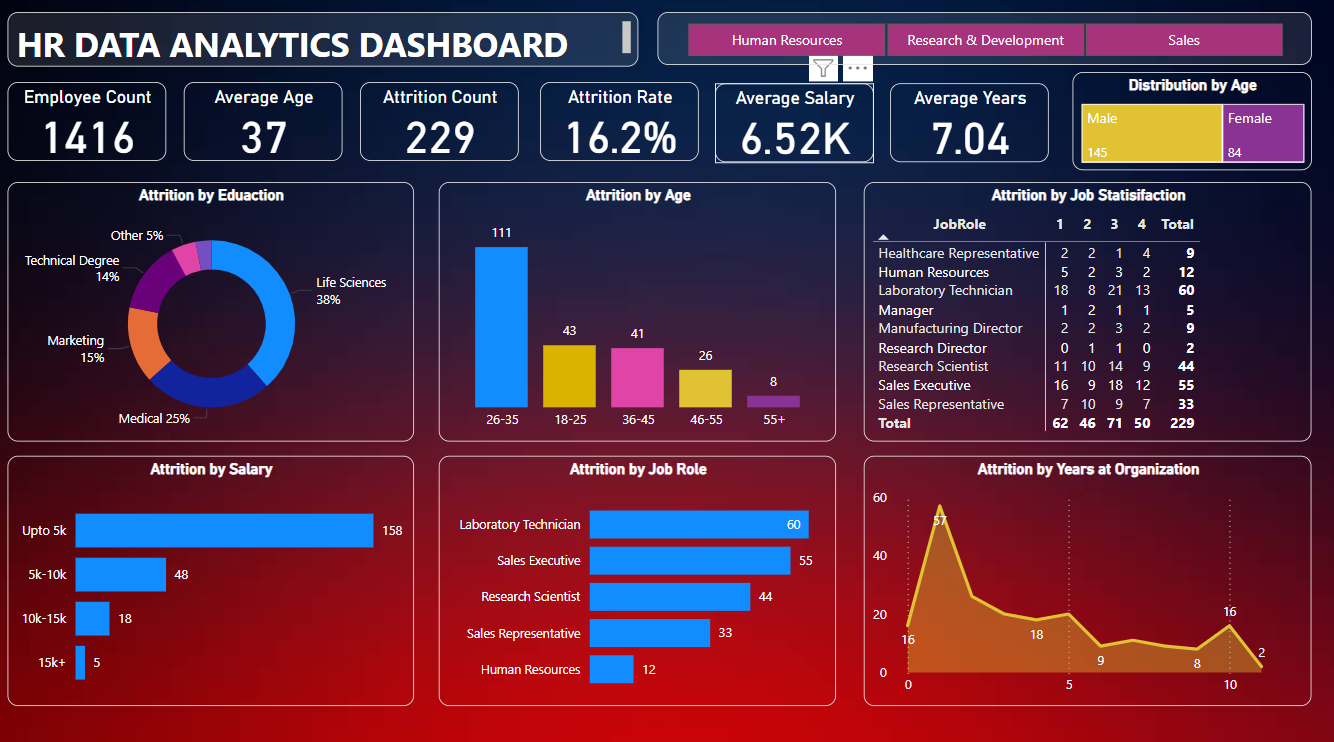

This screenshot's page, from the dashboard's own definition file:
{"tool":"powerbi","page":{"name":"Page 1","canvas":[1280,720],"ordinal":0},"visuals":[{"type":"card","title":"Employee Count","fields":{"Values":["CountNonNull(HR_Analytics.EmpID)"]},"box":[12.3,90.6,150.9,75.5],"z":0},{"type":"card","title":"Average Age","fields":{"Values":["Avg(HR_Analytics.Age)"]},"box":[179.8,90.6,150.9,75.5],"z":1000},{"type":"card","title":"Attrition Count","fields":{"Values":["Sum(HR_Analytics.AttritionCount)"]},"box":[347.2,90.6,150.9,75.5],"z":2000},{"type":"card","title":"Attrition Rate","fields":{"Values":["HR_Analytics.AttritionRate"]},"box":[518.7,90.6,150.9,75.5],"z":3000},{"type":"card","title":"Average Salary","fields":{"Values":["Avg(HR_Analytics.MonthlyIncome)"]},"box":[686.1,91.9,150.9,75.5],"z":4000},{"type":"card","title":"Average Years","fields":{"Values":["Avg(HR_Analytics.YearsAtCompany)"]},"box":[852.1,91.9,150.9,75.5],"z":5000},{"type":"donutChart","title":"Attrition by Eduaction","fields":{"Category":["HR_Analytics.EducationField"],"Y":["Sum(HR_Analytics.AttritionCount)"]},"box":[12.3,185.2,387,247],"z":6000},{"type":"columnChart","title":"Attrition by Age","fields":{"Y":["Sum(HR_Analytics.AttritionCount)"],"Category":["HR_Analytics.AgeGroup"]},"box":[422.6,185.2,378.7,247],"z":7000},{"type":"pivotTable","title":"Attrition by Job Statisifaction","fields":{"Values":["Sum(HR_Analytics.AttritionCount)"],"Columns":["HR_Analytics.JobSatisfaction"],"Rows":["HR_Analytics.JobRole"]},"box":[827.4,185.2,426.8,247],"z":8000},{"type":"barChart","title":"Attrition by Salary","fields":{"Y":["Sum(HR_Analytics.AttritionCount)"],"Category":["HR_Analytics.SalarySlab"]},"box":[12.3,446,387,238.8],"z":9000},{"type":"barChart","title":"Attrition by Job Role","fields":{"Y":["Sum(HR_Analytics.AttritionCount)"],"Category":["HR_Analytics.JobRole"]},"box":[422.6,446,378.7,238.8],"z":10000},{"type":"areaChart","title":"Attrition by Years at Organization","fields":{"Category":["HR_Analytics.YearsAtCompany"],"Y":["Sum(HR_Analytics.AttritionCount)"]},"box":[827.4,446,426.8,238.8],"z":11000},{"type":"treemap","title":"Distribution by Age","fields":{"Group":["HR_Analytics.Gender"],"Values":["Sum(HR_Analytics.AttritionCount)"]},"box":[1026.4,81,227.8,93.3],"z":12000},{"type":"slicer","fields":{"Values":["HR_Analytics.Department"]},"box":[631.2,23.3,623,50.8],"z":13000},{"type":"textbox","box":[12.3,23.3,601,52.1],"z":14000}]}

Visuals, with their boxes in screenshot pixels (x1, y1, x2, y2), scaled from the page's 1280x720 canvas onto the 1334x742 screenshot:
"Employee Count" card: select_region(13, 93, 170, 171)
"Average Age" card: select_region(187, 93, 345, 171)
"Attrition Count" card: select_region(362, 93, 519, 171)
"Attrition Rate" card: select_region(541, 93, 698, 171)
"Average Salary" card: select_region(715, 95, 872, 173)
"Average Years" card: select_region(888, 95, 1045, 173)
"Attrition by Eduaction" donutChart: select_region(13, 191, 416, 445)
"Attrition by Age" columnChart: select_region(440, 191, 835, 445)
"Attrition by Job Statisifaction" pivotTable: select_region(862, 191, 1307, 445)
"Attrition by Salary" barChart: select_region(13, 460, 416, 706)
"Attrition by Job Role" barChart: select_region(440, 460, 835, 706)
"Attrition by Years at Organization" areaChart: select_region(862, 460, 1307, 706)
"Distribution by Age" treemap: select_region(1070, 83, 1307, 180)
slicer - HR_Analytics.Department: select_region(658, 24, 1307, 76)
textbox: select_region(13, 24, 639, 78)
